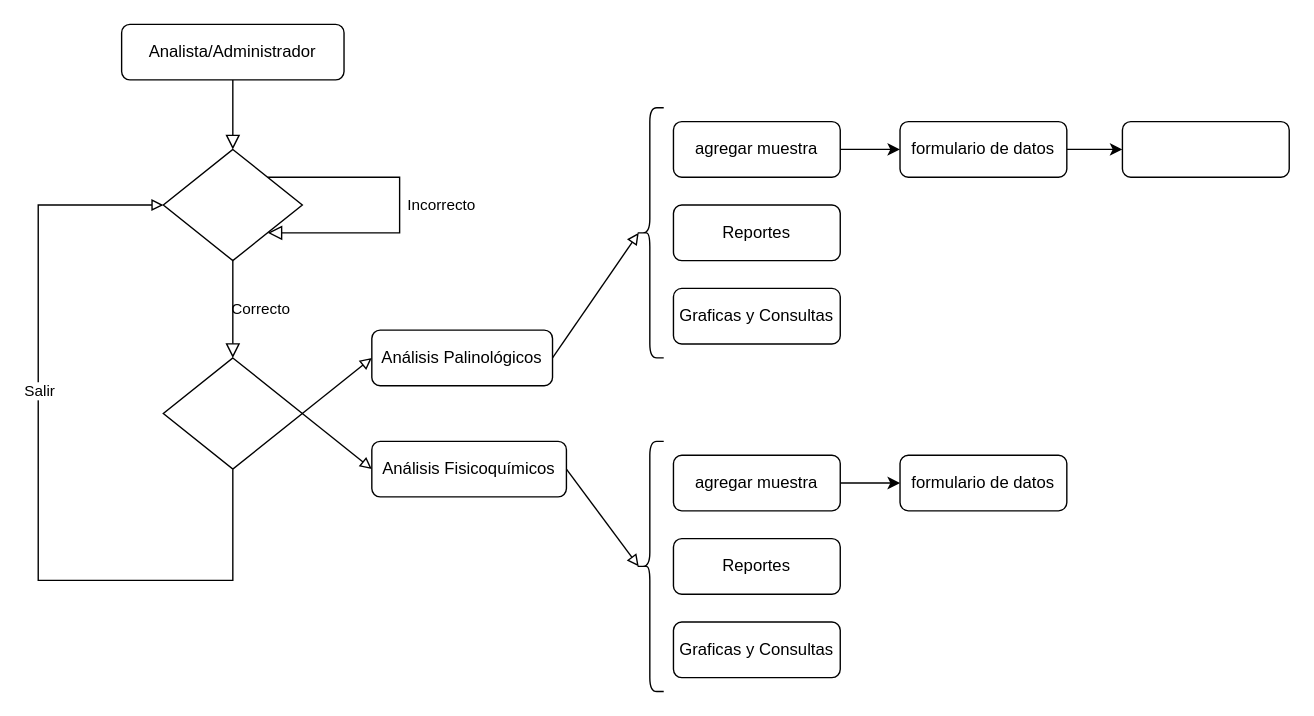
This 1314x716 diagram has some shape labels left out. The centre of each missing label's shape, as x and y in pixels:
"contador" belongs at pixel 1205 148.
"login" belongs at pixel 232 204.
"menu" belongs at pixel 232 413.
